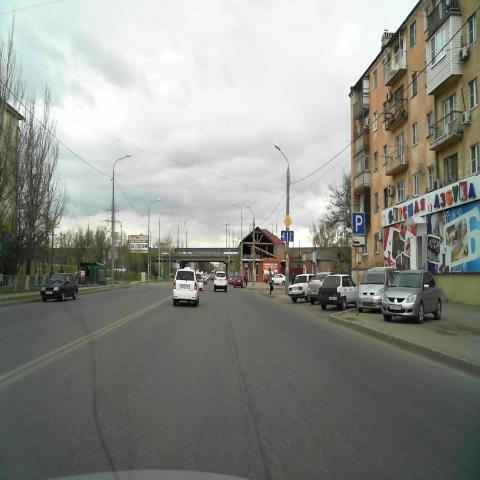5_15_1: (280, 231, 294, 242)
8_6_4: (353, 236, 365, 247)
